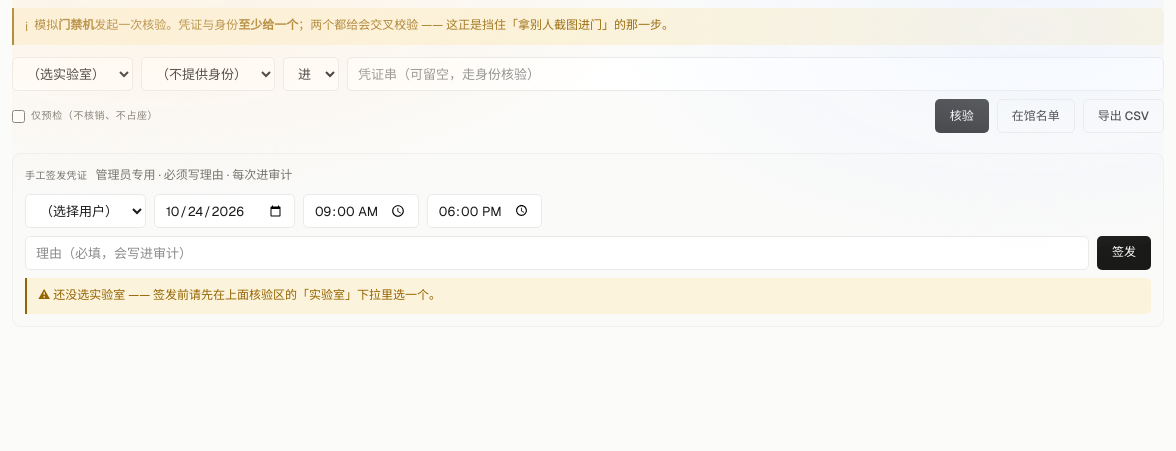
GateSimPane › 拒绝时把 reason_code 翻成中文
The width and height of the screenshot is (1176, 451).
Select "光谱实验室" in the dropdown named "实验室". click: x=72, y=74
box: [12, 57, 133, 91]
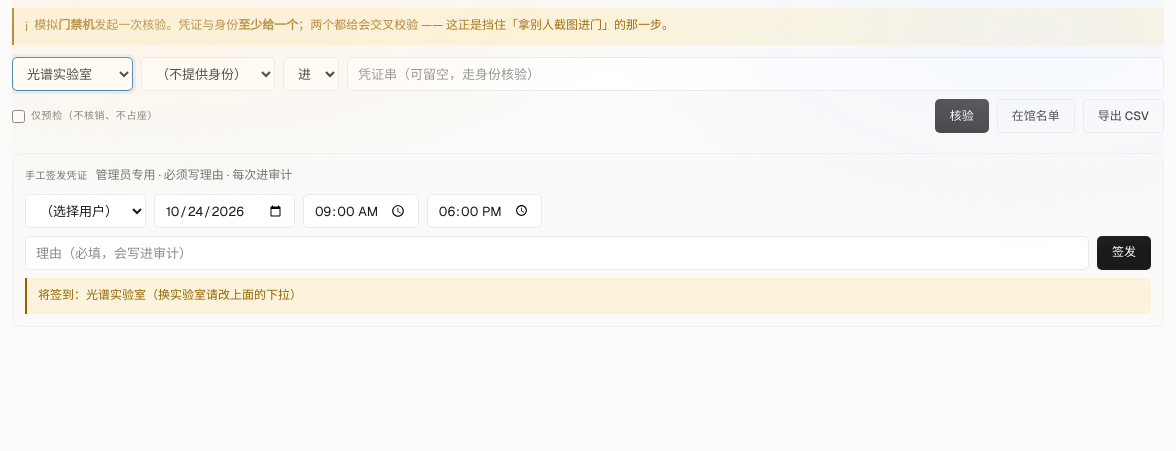
Type "permit-abc" into the field with placeholder "凭证串（可留空，走身份核验）". click: x=756, y=74
box: [347, 57, 1164, 91]
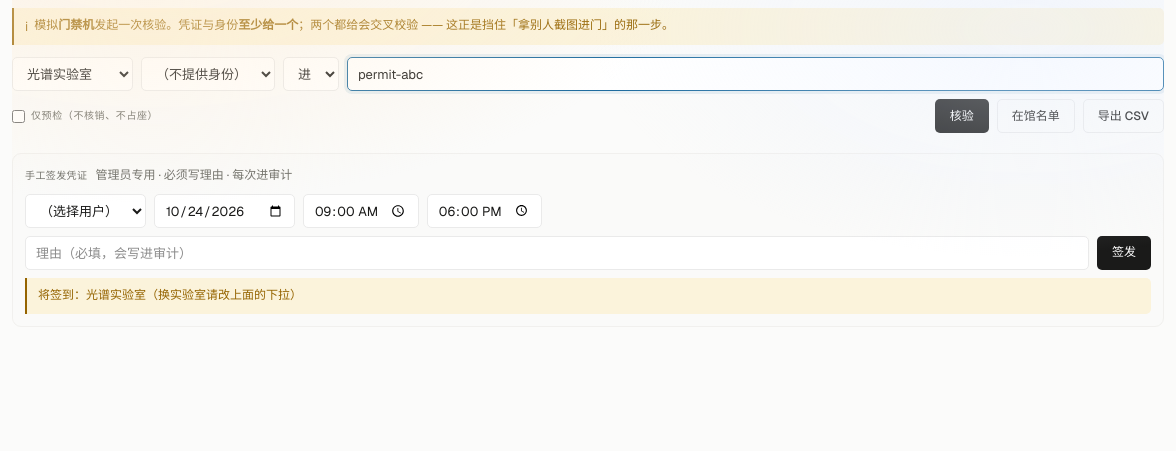
Click the button "核验". click: x=962, y=116
box: [935, 99, 989, 133]
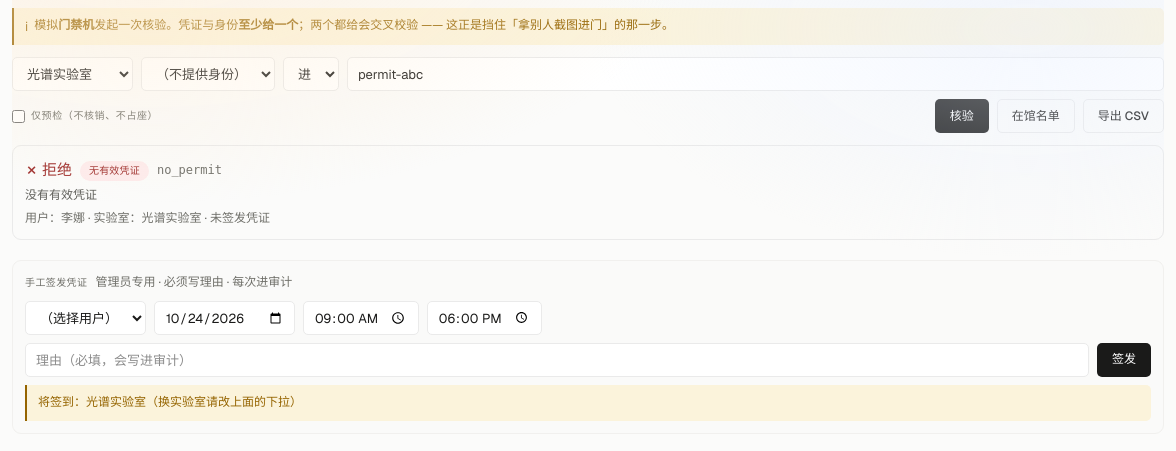
Check: the text "✗ 拒绝" is shown, box [25, 158, 72, 183]
Check: the text "无有效凭证" is shown, box [80, 161, 149, 181]
